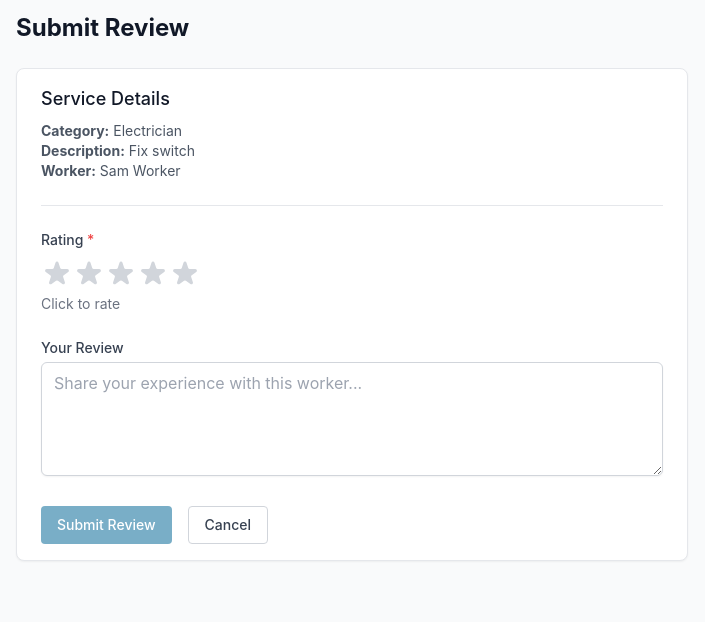
it: SubmitReview page › submits review with rating and comment
Expected: the button "Submit Review" is disabled, [41,506,172,544]
Click the 1st button at (57, 274), box [41,258,73,290]
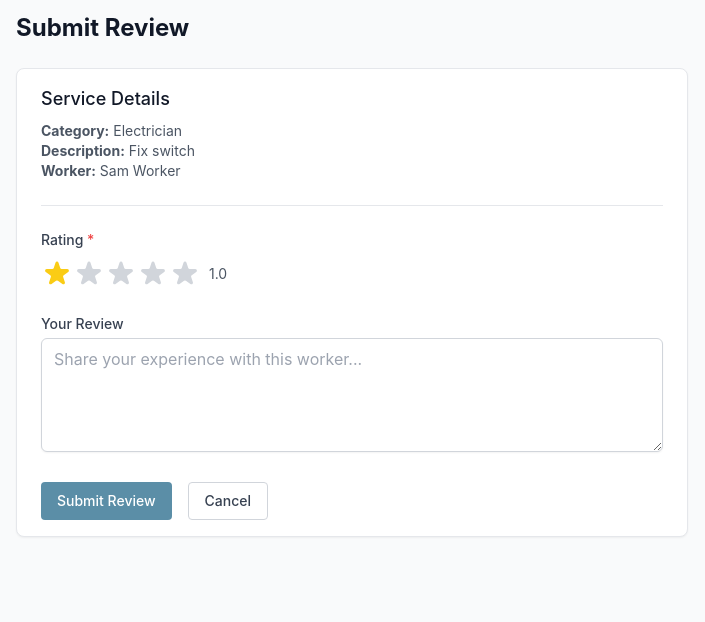
Type "Great service and on time." into the text box labelled "Your Review" at (352, 395), box [41,338,663,452]
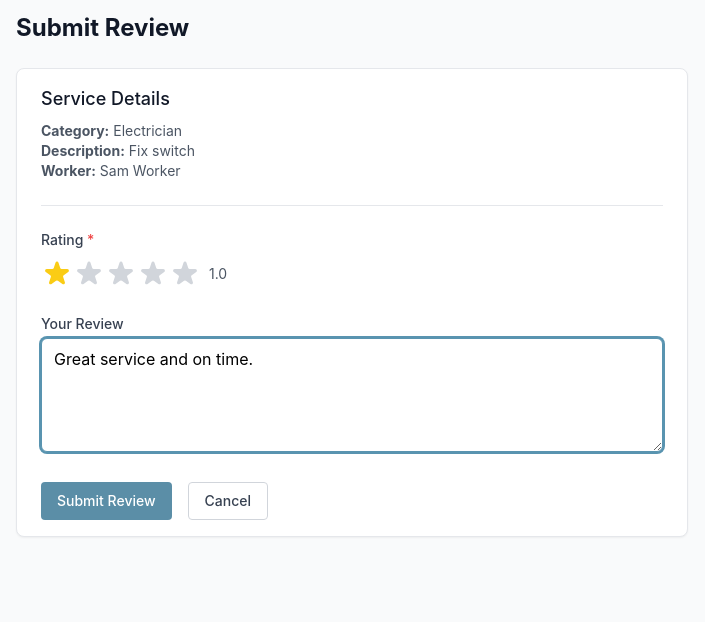
Click the button "Submit Review" at (106, 501), box [41,482,172,520]
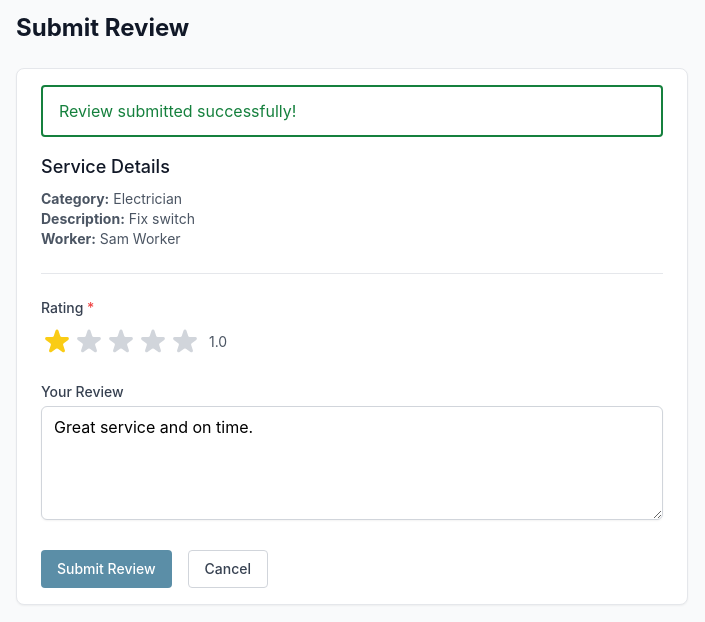
Now the text "Review submitted successfully!" is shown, box [59,101,296,121]
